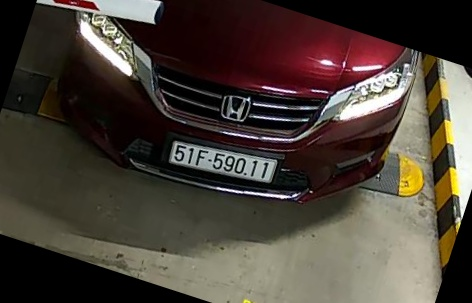plate: (167, 136, 279, 190)
